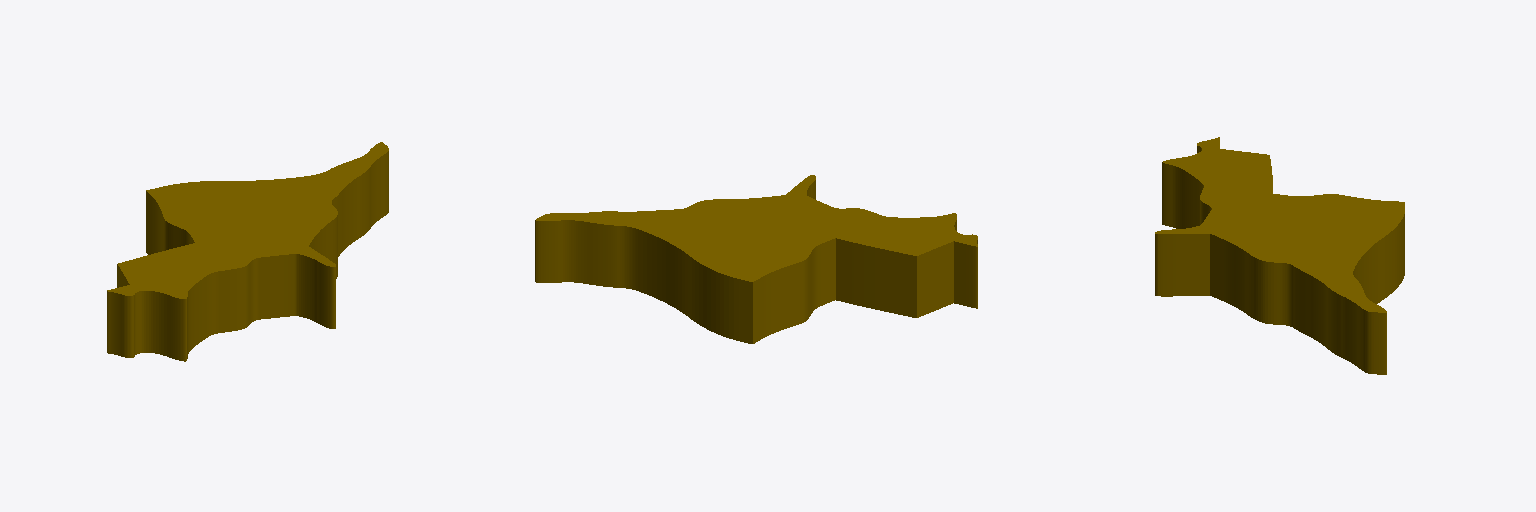
File: North_America_04.obj
The picture shows the model from 3 angles: view 1: azimuth 30°, elevation 25°; view 2: azimuth 150°, elevation 25°; view 3: azimuth 270°, elevation 25°; orthographic projection.
Visible parts, largest first — view 1: North_America_04_path4186; view 2: North_America_04_path4186; view 3: North_America_04_path4186.
Part boxes in pixels (x1,y1,x2,y2): North_America_04_path4186: (107, 142, 388, 361); North_America_04_path4186: (535, 175, 977, 343); North_America_04_path4186: (1155, 137, 1404, 374).
Bounding box in the file's own units: 0.6057 × 0.1 × 0.3662.